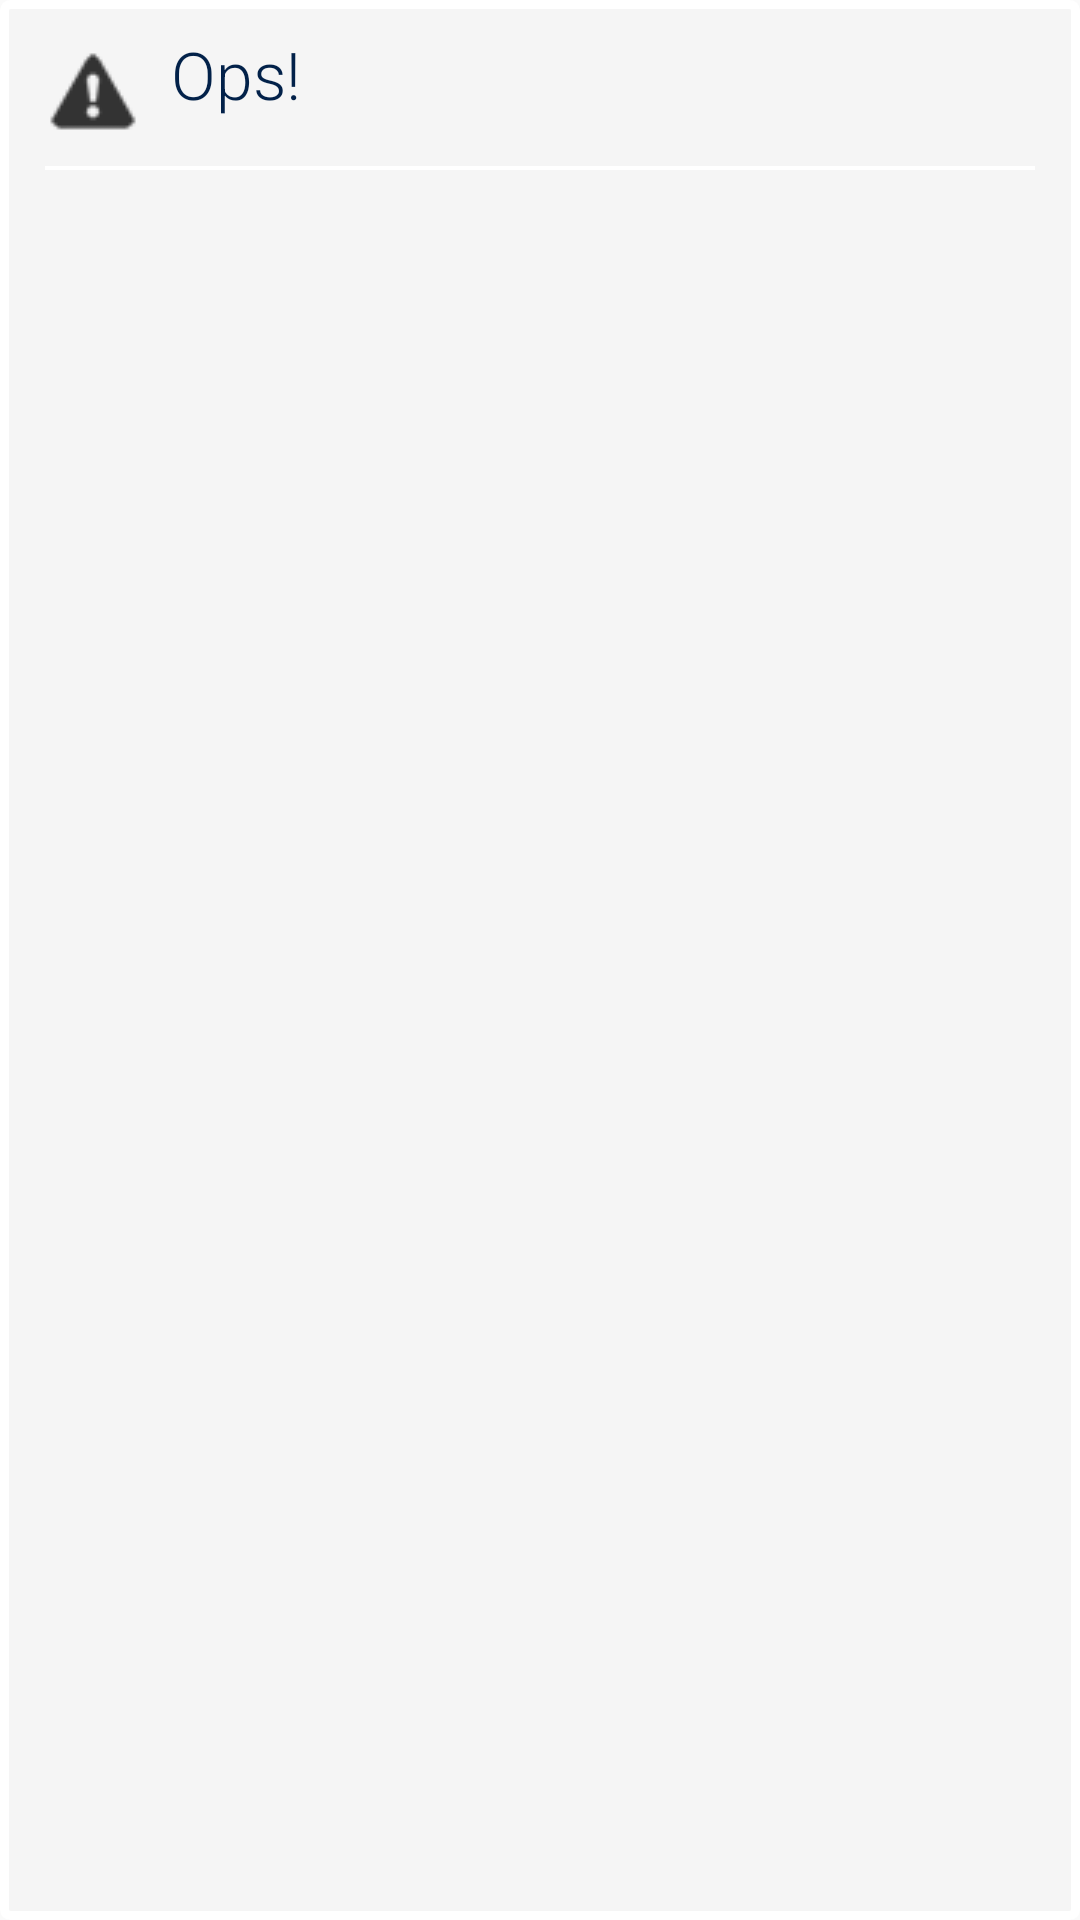

Named icons in this screenshot (1080px x 1920px) and their bounding boxes, (x1, y1, x2, y2):
error: (50, 53, 136, 130)
